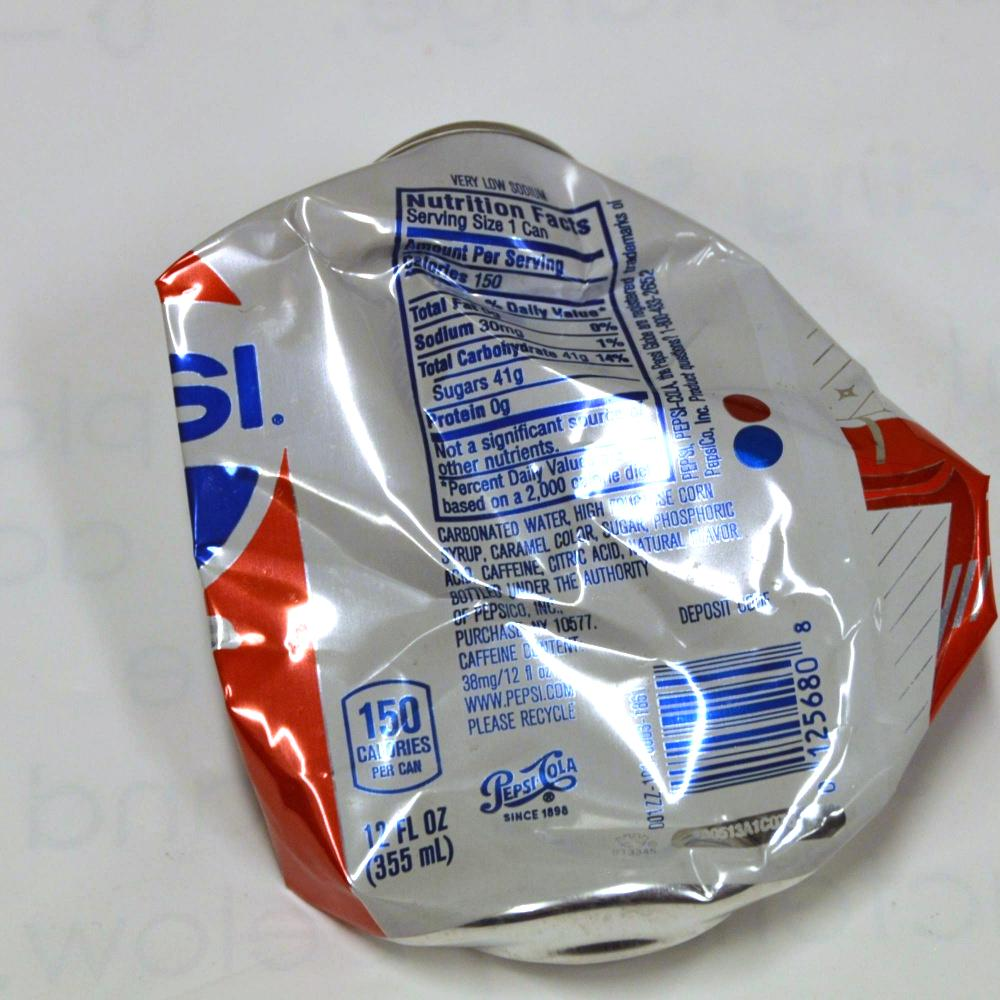Metal: (118, 82, 986, 962)
